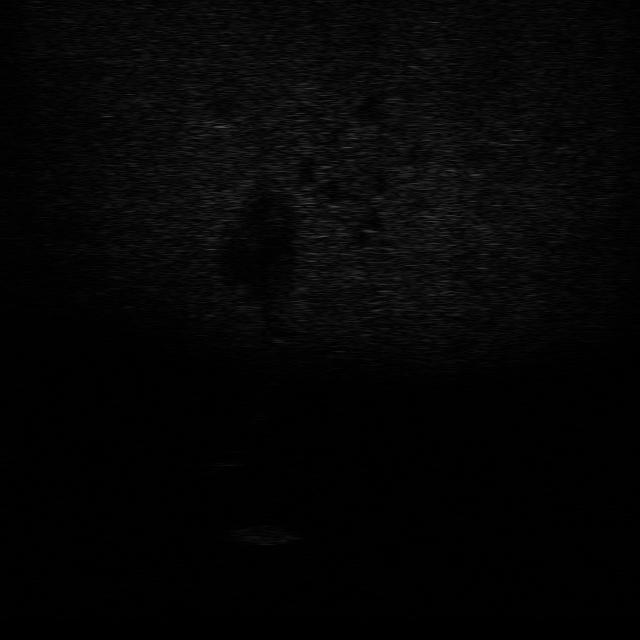ball: (208, 445, 246, 471)
circle cage: (220, 518, 301, 546)
human body: (248, 374, 280, 428)
